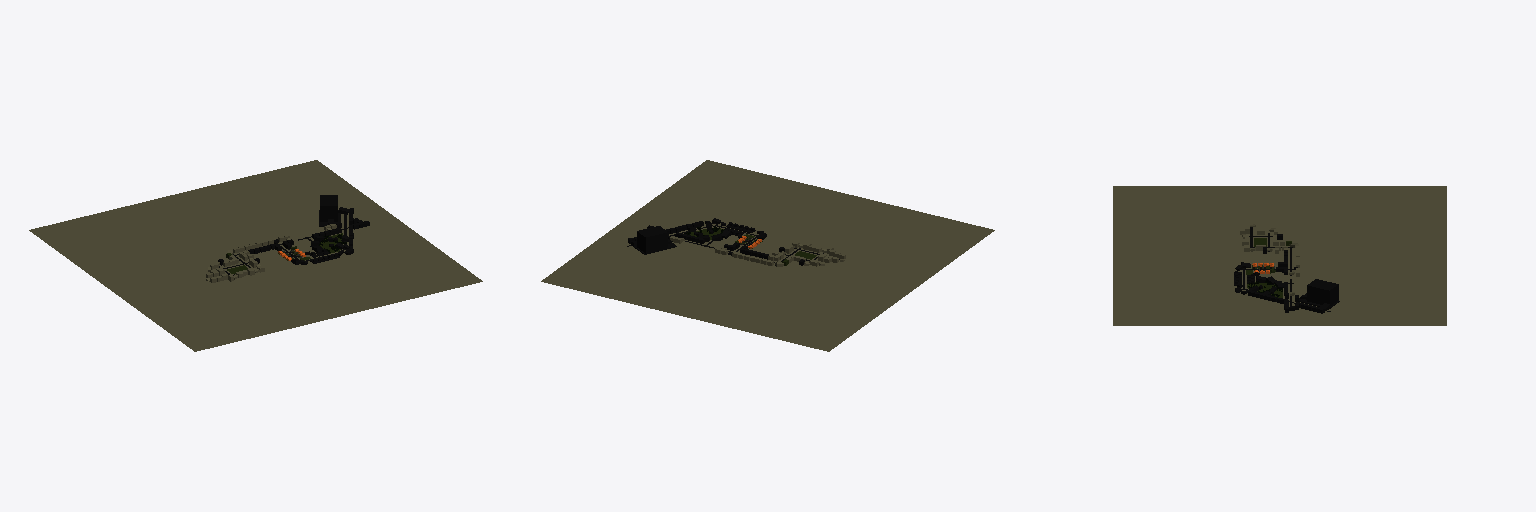
The model's file is test-city.obj.
3 views of the same model, side by side, from view 1: azimuth 30°, elevation 25°; view 2: azimuth 150°, elevation 25°; view 3: azimuth 270°, elevation 25° (orthographic).
Visible parts, largest first — view 1: Plane; view 2: Plane, Cube.082; view 3: Plane, Cube.082.
Part boxes in pixels (left/top/right/bottom): Plane: left=29, top=160, right=482, bottom=351; Plane: left=541, top=160, right=994, bottom=351; Cube.082: left=637, top=226, right=667, bottom=253; Plane: left=1113, top=186, right=1446, bottom=325; Cube.082: left=1307, top=279, right=1338, bottom=305.
Size of the model in its own units: 640 by 72.64 by 640.